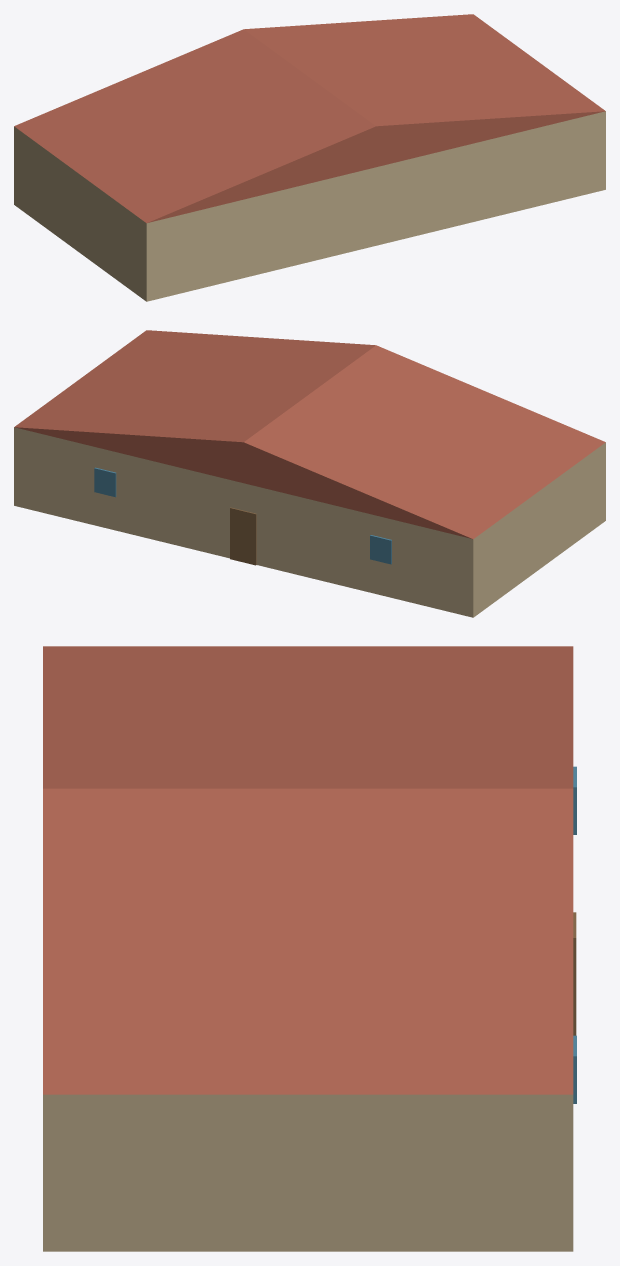
The model's file is landmark_castle.glb.
3 views of the same model, one above another, from view 1: azimuth 30°, elevation 25°; view 2: azimuth 150°, elevation 25°; view 3: azimuth 270°, elevation 25° (orthographic). The views are drawn at different scales.
Bounding box in the file's own units: 14.08 × 3.5 × 7.09.
